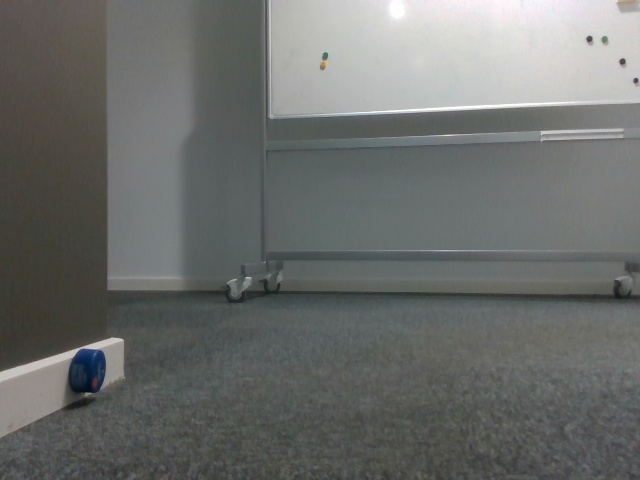alfa: (66, 347, 107, 396)
